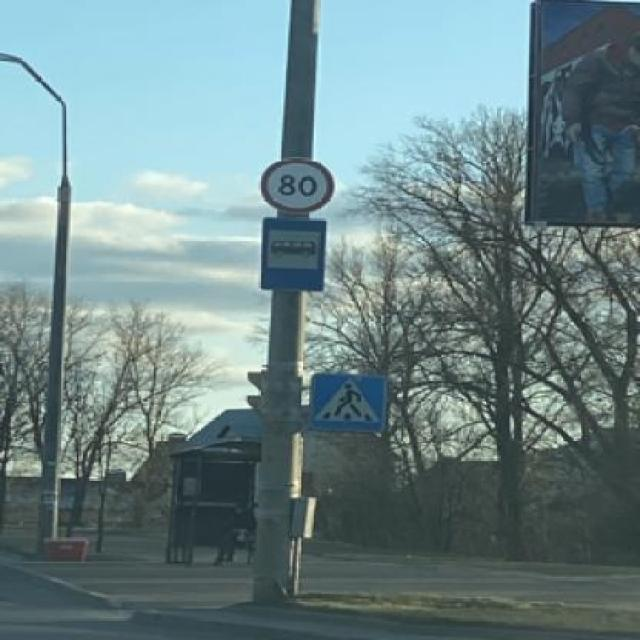forb_speed_over_80: (263, 156, 332, 213)
